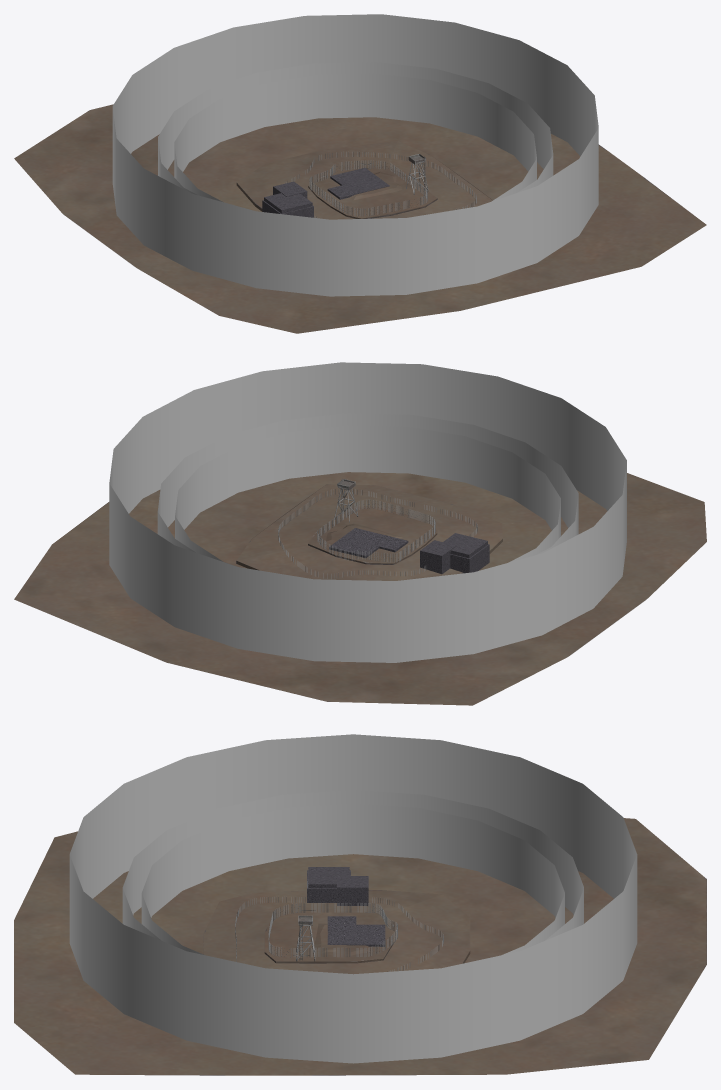
File: env.obj
3 renders of one model, top to bottom at view 1: azimuth 30°, elevation 25°; view 2: azimuth 150°, elevation 25°; view 3: azimuth 270°, elevation 25°, orthographic. The views are drawn at different scales.
Visible parts, largest first — view 1: Cylinder, Plane, Circle, Cube.001, Cube.004, Circle.001; view 2: Cylinder, Plane, Cube.001, Circle, Cube.004, Circle.001; view 3: Cylinder, Plane, Cube.001, Circle, Cube.004, Circle.001.
Boxes of the visible parts, left/top/right/bottom form: Cylinder: left=112, top=14, right=598, bottom=296; Plane: left=14, top=104, right=706, bottom=333; Circle: left=309, top=160, right=427, bottom=216; Cube.001: left=262, top=181, right=313, bottom=217; Cube.004: left=327, top=168, right=389, bottom=199; Circle.001: left=285, top=152, right=476, bottom=217; Cylinder: left=109, top=362, right=626, bottom=662; Plane: left=14, top=472, right=706, bottom=705; Cube.001: left=420, top=533, right=489, bottom=574; Circle: left=317, top=499, right=435, bottom=562; Cube.004: left=329, top=528, right=408, bottom=558; Circle.001: left=278, top=488, right=477, bottom=578; Cylinder: left=69, top=734, right=637, bottom=1063; Plane: left=14, top=818, right=706, bottom=1075; Cube.001: left=307, top=867, right=368, bottom=905; Circle: left=268, top=903, right=397, bottom=957; Cube.004: left=327, top=916, right=385, bottom=946; Circle.001: left=235, top=897, right=443, bottom=971.
Size of the model in its own units: 108 by 17.83 by 118.
